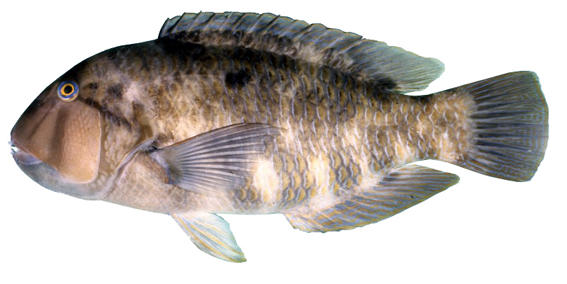fish: (9, 12, 550, 263)
